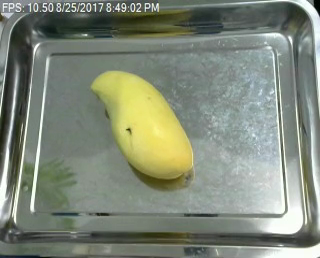Mango: (88, 58, 196, 183)
